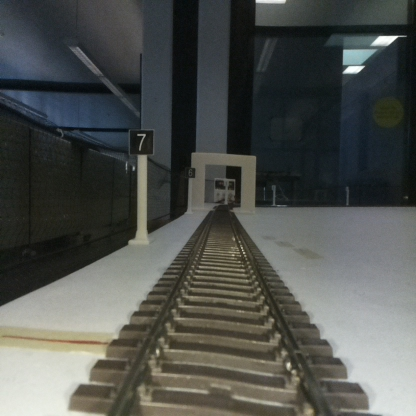black-info-6: (186, 167, 195, 213)
black-info-7: (129, 129, 154, 242)
